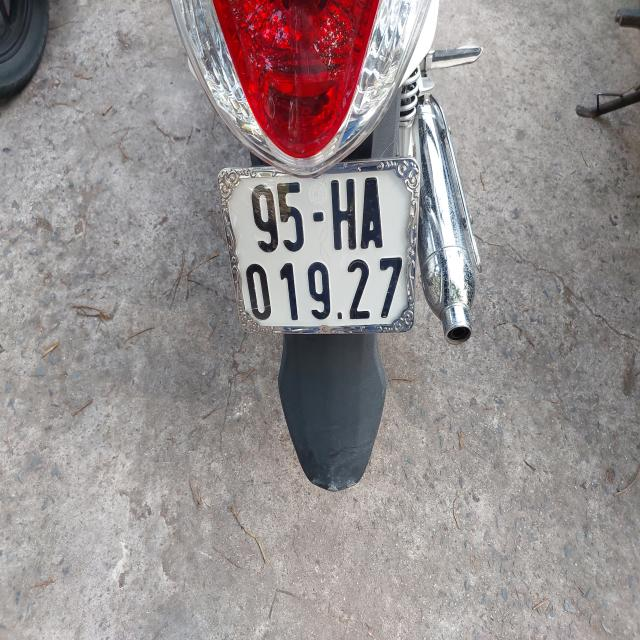0: (244, 260, 274, 320)
1: (279, 262, 303, 322)
2: (347, 258, 370, 320)
7: (378, 256, 402, 320)
9: (249, 184, 279, 253), (278, 180, 304, 250), (307, 260, 332, 321)
A: (362, 178, 384, 250)
H: (330, 179, 356, 250)
